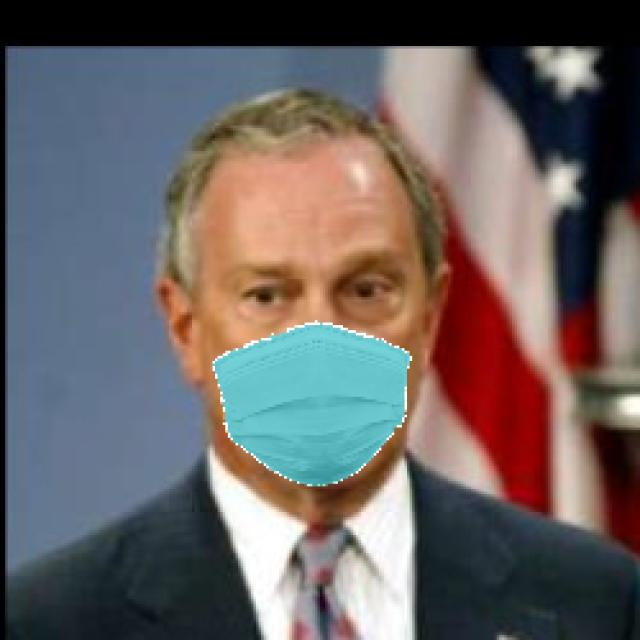mask: (205, 330, 437, 498)
